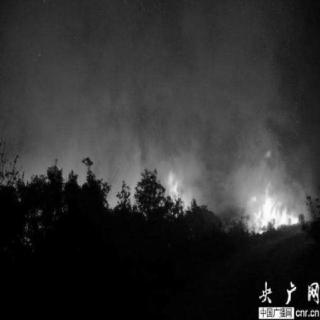Fire: (214, 168, 302, 244)
